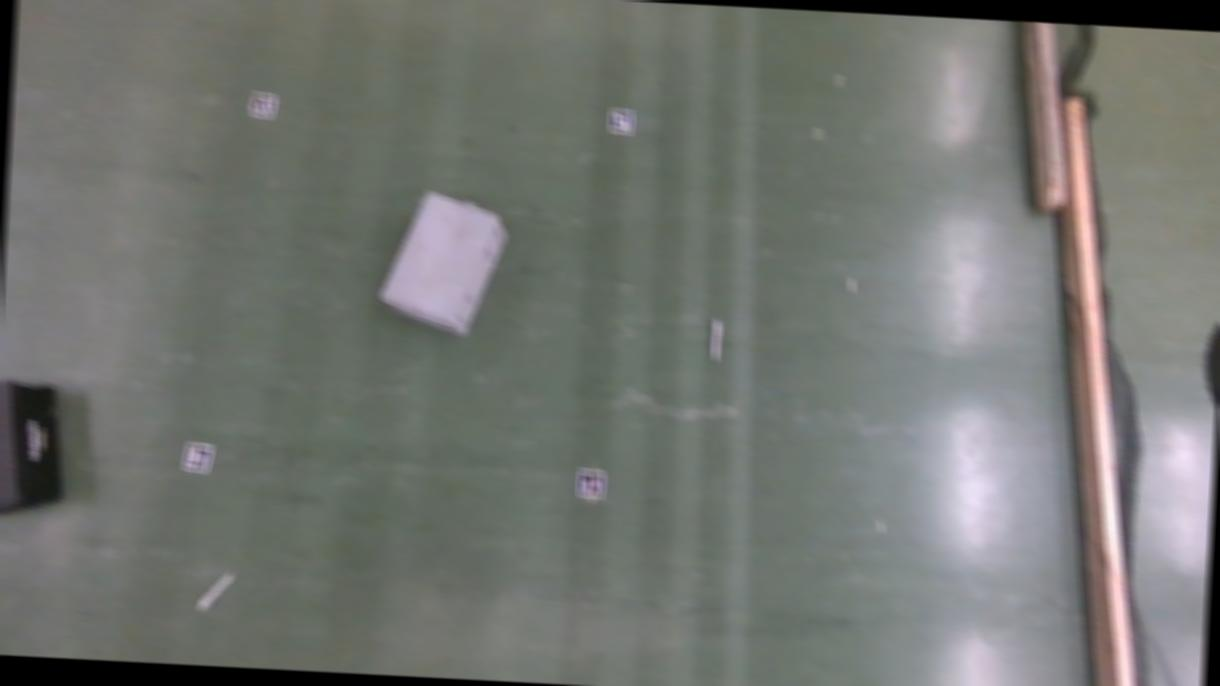probes: (200, 570, 233, 614), (712, 322, 724, 361)
rako: (378, 191, 508, 340), (0, 379, 69, 521)
